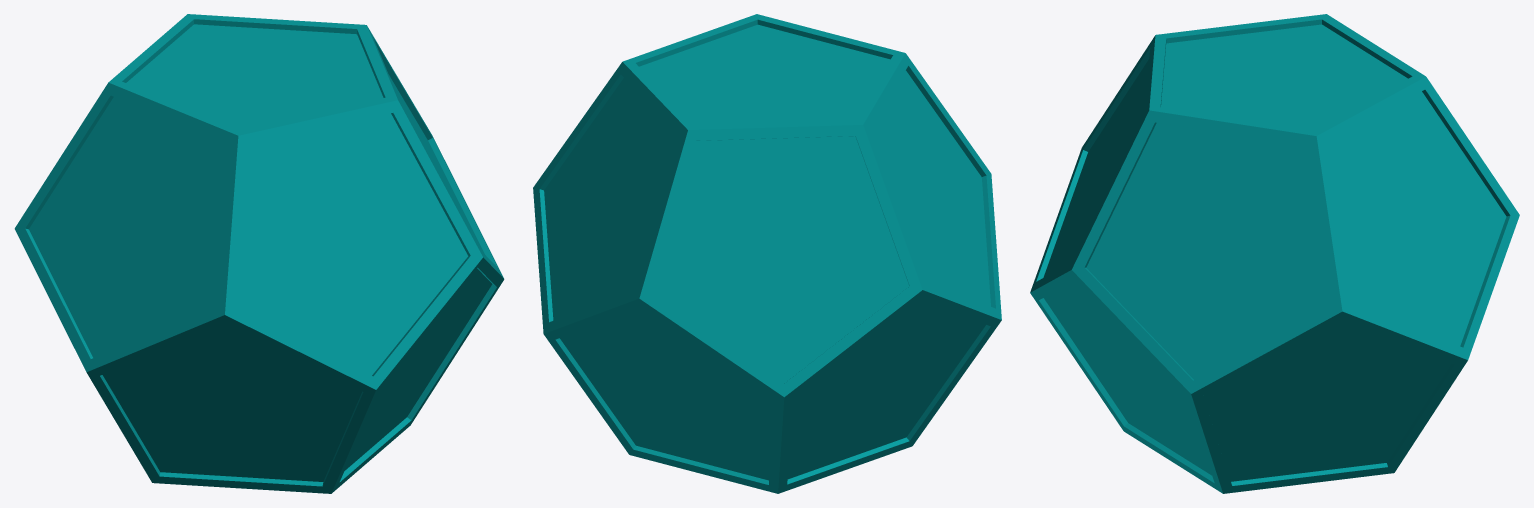
File: SFI0210011.fbx
3 renders of one model, left to right at view 1: azimuth 30°, elevation 25°; view 2: azimuth 150°, elevation 25°; view 3: azimuth 270°, elevation 25°, orthographic. The views are drawn at different scales.
Parts seen in each view (by area): view 1: smSFI0210011; view 2: smSFI0210011; view 3: smSFI0210011.
Part boxes in pixels (x1=…): smSFI0210011: x1=14, y1=14, x2=504, y2=493; smSFI0210011: x1=533, y1=14, x2=1001, y2=493; smSFI0210011: x1=1030, y1=14, x2=1519, y2=493.
Bounding box in the file's own units: 134 × 113 × 139.
